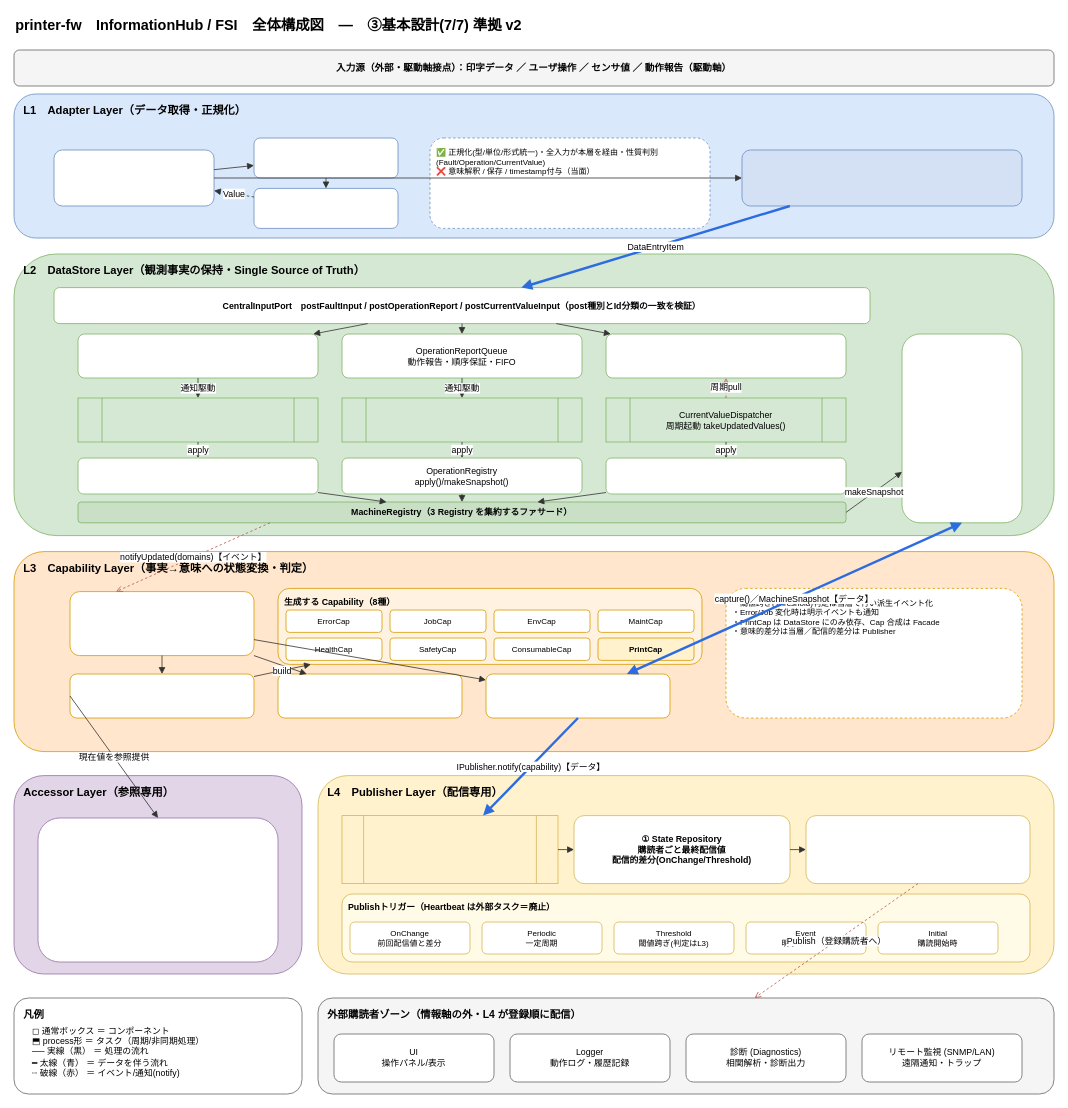
This 1068x1108 diagram has some shape labels left out. The shapes that lost their labels are listed below. From the top down, each one's centre as x and y in pixels, then its label:
At point 133,177: "RawDataInput 入力の起点・処理制御".
At point 325,157: "RuleResolver selectRule(id)".
At point 881,177: "性質を判別し 3種 post を選択 → CentralInputPort".
At point 325,208: "Rule convert(rawValue, ctx)".
At point 197,355: "FaultInputQueue 異常系・高優先・FIFO".
At point 725,355: "CurrentValueBuffer 最新値・Id上書き・dirty管理".
At point 197,419: "FaultDispatcher dispatch()".
At point 461,419: "OperationDispatcher dispatch()".
At point 961,428: "MachineSnapshotReader capture(request) → MachineSnapshot （部分・読取専用・不変）".
At point 197,475: "FaultRegistry apply()/makeSnapshot()".
At point 725,475: "CurrentValueRegistry apply()/makeSnapshot()".
At point 161,623: "CapabilityManager onRegistryUpdated(domains) 制御中枢（取得→生成→差分→優先度→通知）".
At point 161,695: "CapabilityBuilder build(Snapshot)".
At point 369,695: "CapabilityDiffChecker 意味的差分 hasDifference()".
At point 577,695: "CapabilityPriorityChecker check()→Low/Normal/High/Critical".
At point 449,849: "② Publish Engine Capability ごとにタスク生成 配信管理・Rate Limit".
At point 917,849: "③ Subscription Broker 購読者の登録/解除 関心Cap一致判定・配信".
At point 157,889: "PrinterStatusReader DataStore / 現在Cap の現在値を 任意タイミングで外部提供 ✅ 参照提供 ❌ 通知しない・状態保持しない".
